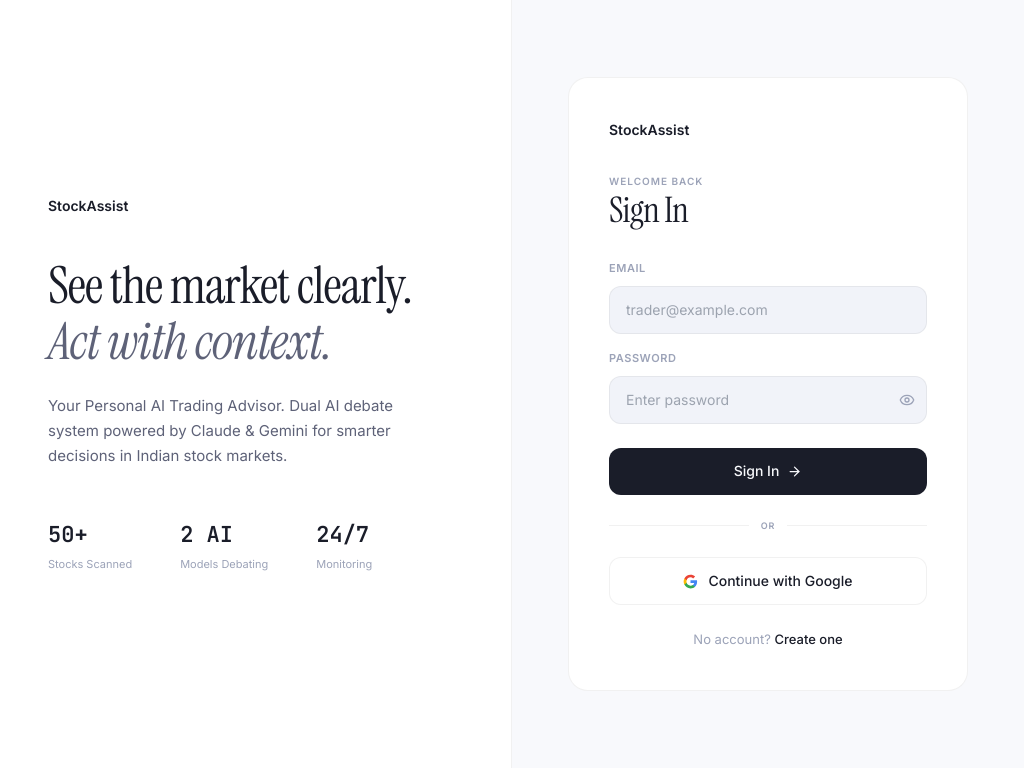
Scenario: error handling › explains rejected credentials using the server's message
In the field with test id "login-email-input": coordinates (768, 310) top-left (609, 286), bottom-right (927, 334), type "trader@test.invalid"
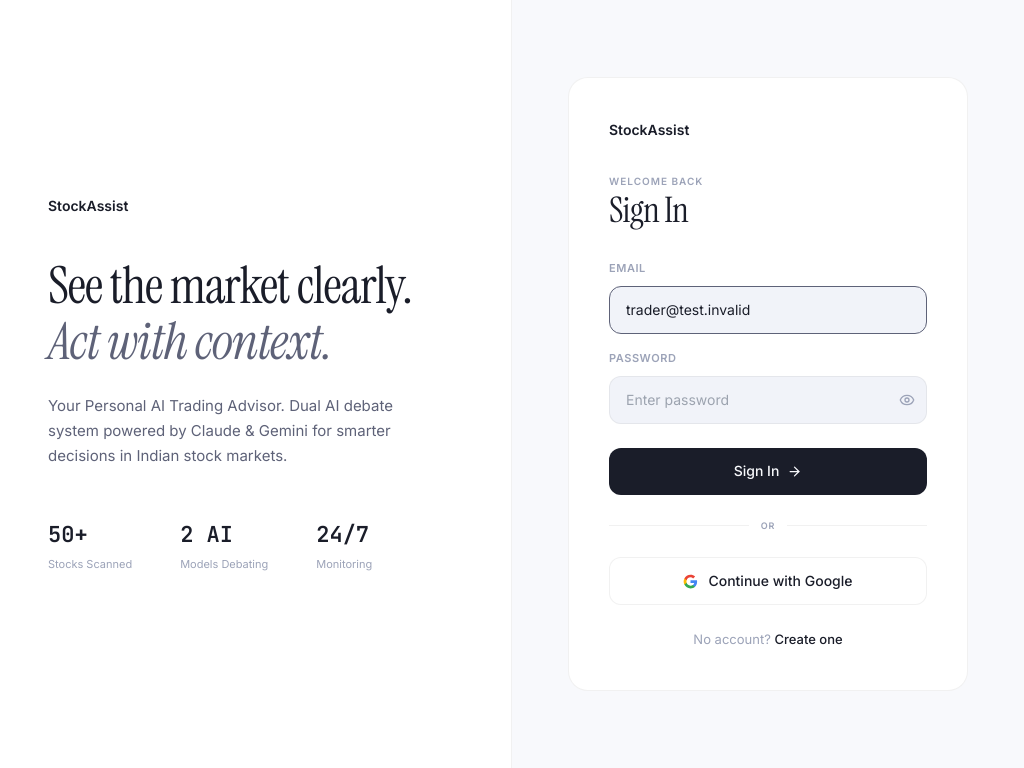
In the password field with test id "login-password-input": coordinates (768, 400) top-left (609, 376), bottom-right (927, 424), type "wrong-password"
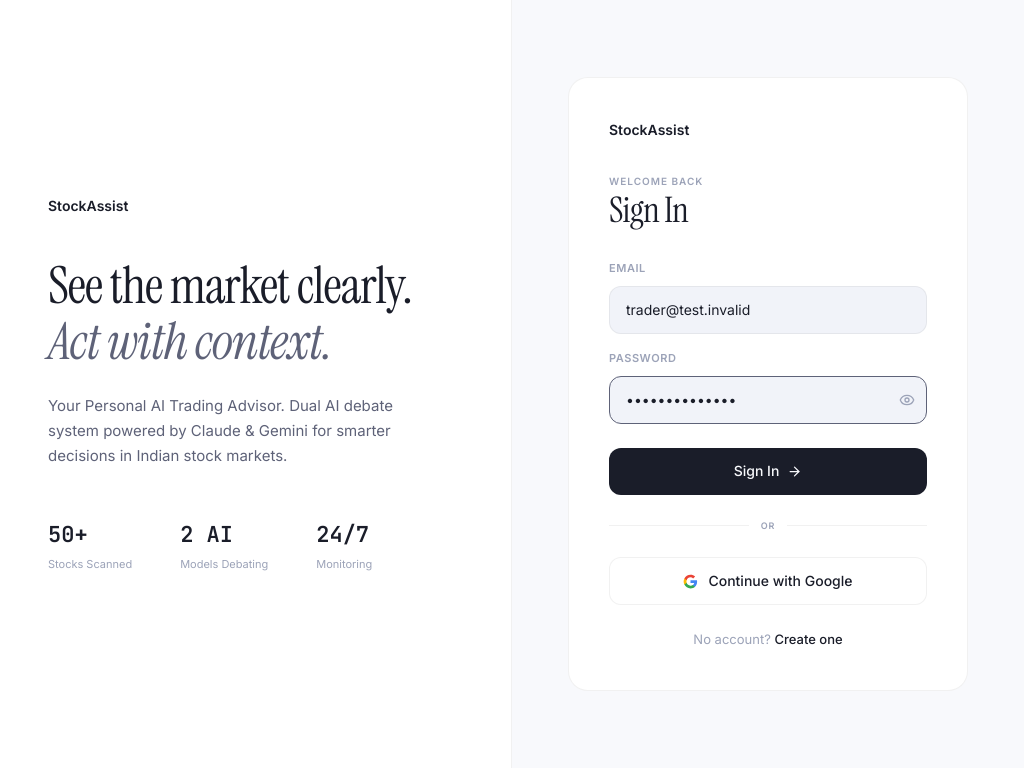
Click the button with test id "login-submit-btn": coordinates (768, 472) top-left (609, 448), bottom-right (927, 495)
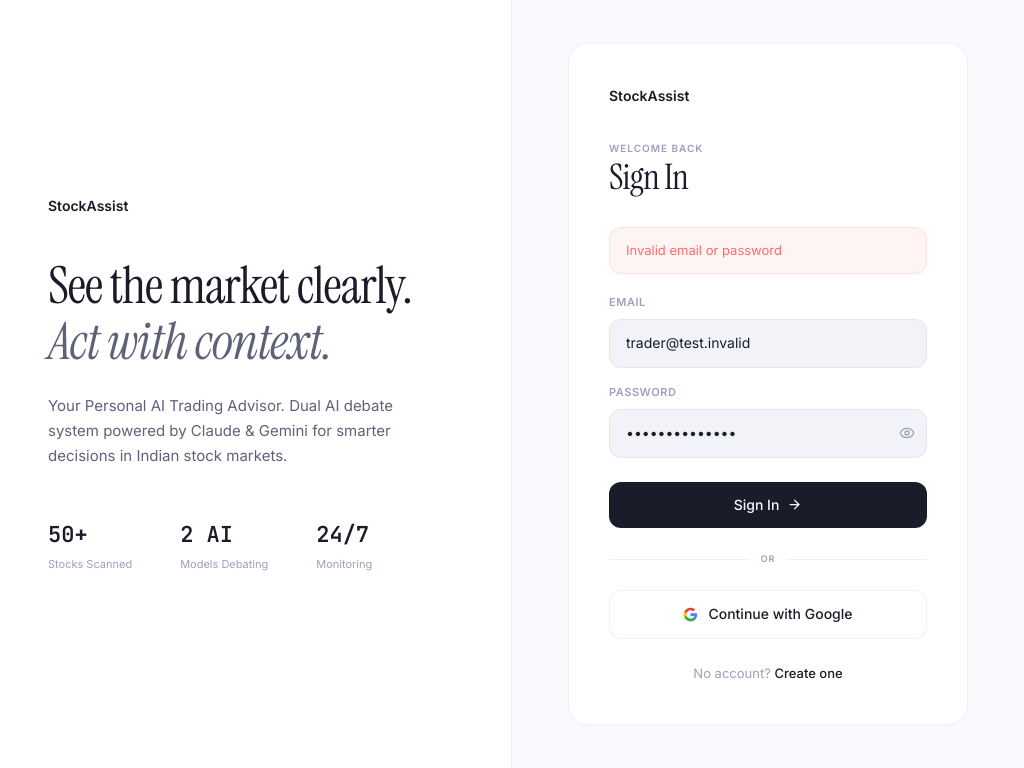
Result: the message with test id "login-error" reads "Invalid email or password" at top-left (626, 242), bottom-right (782, 258)
